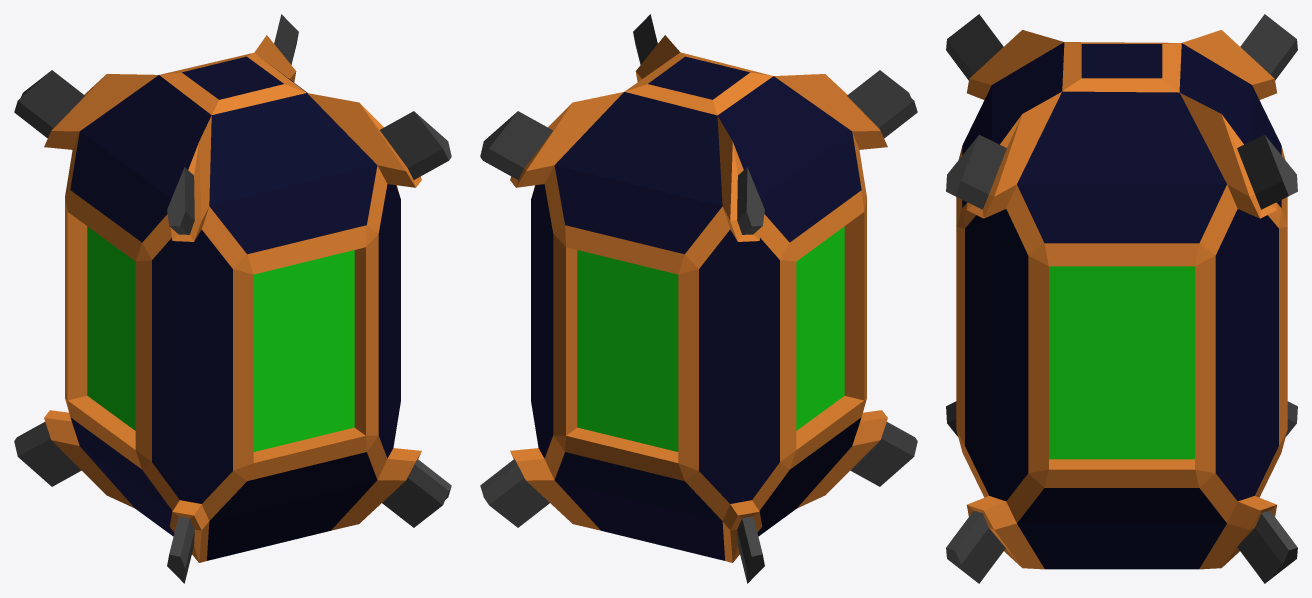
File: アイテムボックス.fbx
3 views of the same model, side by side, from view 1: azimuth 30°, elevation 25°; view 2: azimuth 150°, elevation 25°; view 3: azimuth 270°, elevation 25° (orthographic). The views are drawn at different scales.
Parts seen in each view (by area): view 1: Cube; view 2: Cube; view 3: Cube.
Boxes of the visible parts, x1,y1,x2,y2 form: Cube: (14, 14, 451, 583); Cube: (480, 14, 917, 583); Cube: (946, 14, 1297, 583).
Bounding box in the file's own units: 283 × 422 × 283.
